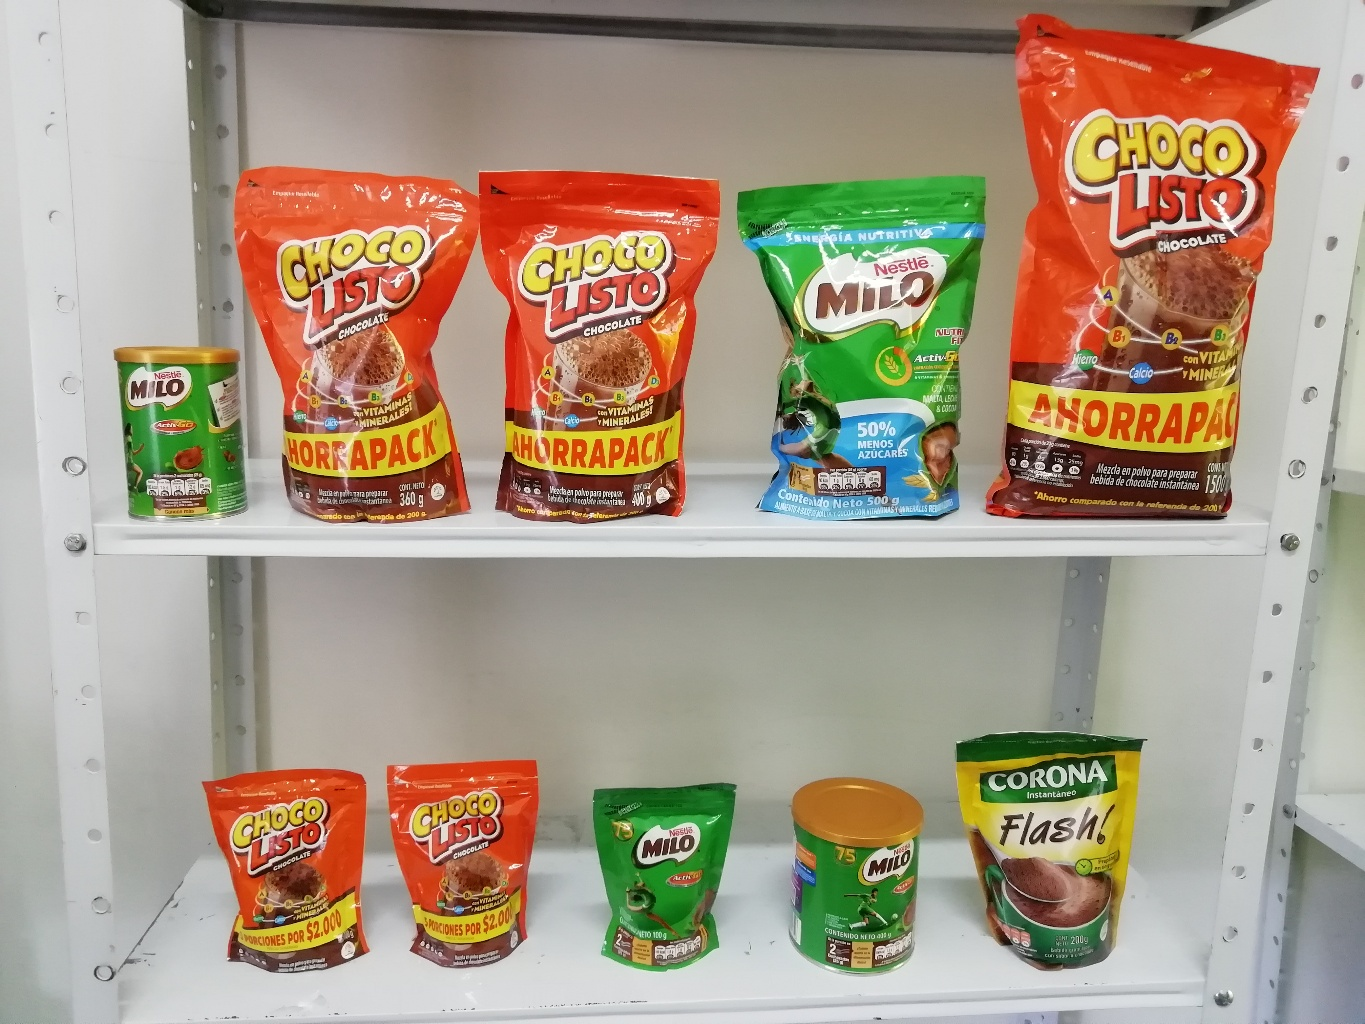COL0170103DYP1,500: (996, 3, 1330, 536)
COL0170103DYP10000: (208, 755, 385, 971)
COL0170103DYP36000: (198, 166, 475, 529)
COL0170103DYP40000: (470, 156, 722, 514)
COL0170203DYP10000: (588, 783, 747, 975)
COL0170203LAT20000: (117, 346, 257, 525)
COL0170203LAT40000: (787, 768, 938, 976)
COL0170205DYP50000: (733, 151, 995, 520)
